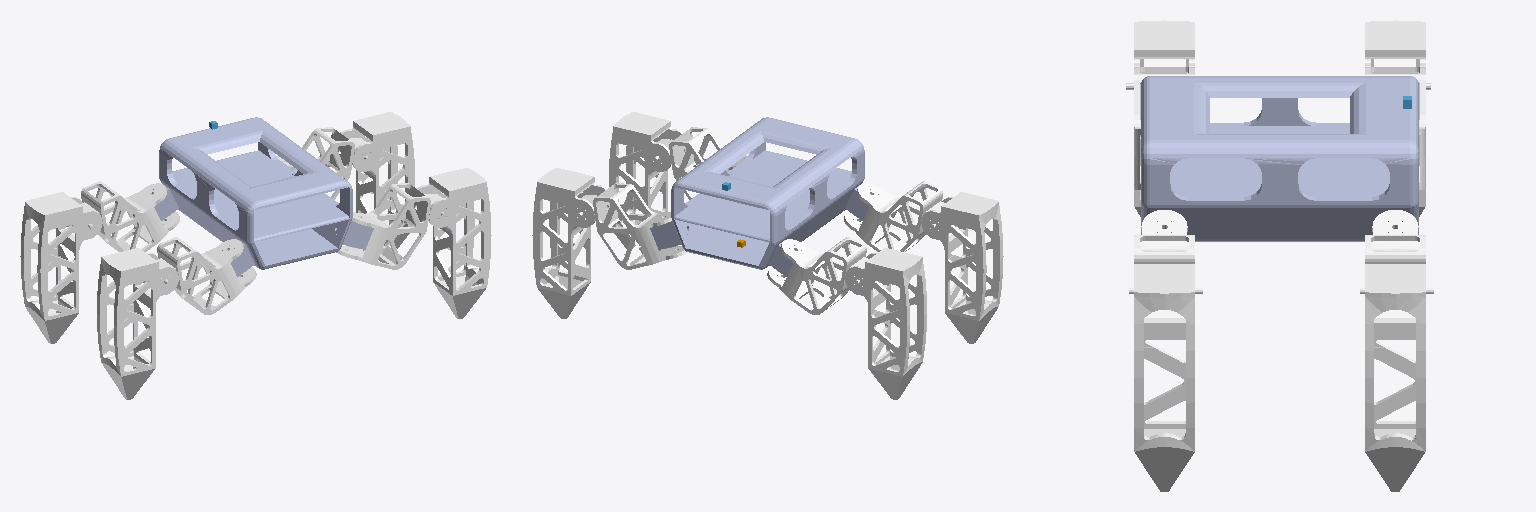
URDF robot description (insect):
<?xml version="1.0" ?>
<!-- =================================================================================== -->
<!-- |    This document was autogenerated by xacro from insect.urdf.xacro              | -->
<!-- |    EDITING THIS FILE BY HAND IS NOT RECOMMENDED                                 | -->
<!-- =================================================================================== -->
<robot name="insect" xmlns:xacro="http://www.ros.org/wiki/xacro">
  <!--#####################################################################################-->
  <!--link name= "world"/>
<joint name="world_joint" type="fixed">
  <origin xyz="0.155823674040498 -0.197142204072068 0.168908258984982 " rpy="0 0 0" />
  <origin xyz="0 0 0" rpy="0 0 0" />
  <parent link="world" />
  <child link="torso_base" />
  <axis xyz="1 0 0" />
</joint-->
  <!--################################################################################################-->
  <!--IMU sensor_link-->
  <link name="imu_link">
    <visual>
      <origin rpy="0 0 0" xyz="0 0 0 "/>
      <geometry>
        <box size="0.01 0.01 0.01"/>
        <!--box size="0.001 0.001 0.001"/-->
      </geometry>
    </visual>
    <collision>
      <origin rpy="0 0 0 " xyz="0 0 0"/>
      <geometry>
        <box size="0.01 0.01 0.01 "/>
        <!--<box size=".001 .001 .001"/-->
      </geometry>
    </collision>
  </link>
  <!--IMU sensor joint-->
  <joint name="imu_joint" type="fixed">
    <axis xyz="0.01 0 0.01"/>
    <!-- 0 1 0 -->
    <origin xyz="0.15 -0.1 0.132"/>
    <parent link="torso_base"/>
    <child link="imu_link"/>
  </joint>
  <!--camera link-->
  <link name="camera_link">
    <collision>
      <origin rpy="0 0 0" xyz="0 0 0"/>
      <geometry>
        <box size="0.01 0.01 0.01"/>
      </geometry>
    </collision>
    <visual>
      <origin rpy="0 0 0" xyz="0 0 0"/>
      <geometry>
        <box size="0.01 0.01 0.01"/>
      </geometry>
      <material name="red"/>
    </visual>
    <inertial>
      <mass value="1e-5"/>
      <origin rpy="0 0 0" xyz="0 0 0"/>
      <inertia ixx="1e-6" ixy="0" ixz="0" iyy="1e-6" iyz="0" izz="1e-6"/>
    </inertial>
  </link>
  <!--Camera sensor joint-->
  <joint name="camera_joint" type="fixed">
    <axis xyz="0 1 0"/>
    <origin rpy="0 0 1.57079632679" xyz="0.155 -0.06 0.25"/>
    <parent link="torso_base"/>
    <child link="camera_link"/>
  </joint>
  <link name="hokuyo_link">
    <collision>
      <origin rpy="0 0 0" xyz="0 0 0"/>
      <geometry>
        <box size="0.1 0.1 0.1"/>
      </geometry>
    </collision>
    <origin rpy="0 0 0" xyz="0 0 0"/>
    <geometry>
      <mesh filename="package://insect_1_description/meshes/hokuyo.dae"/>
    </geometry>
    <visual>
      <origin rpy="0 0 0" xyz="0 0 0"/>
      <geometry>
        <mesh filename="package://insect_1_description/meshes/hokuyo.dae"/>
      </geometry>
    </visual>
    <inertial>
      <mass value="1e-5"/>
      <origin rpy="0 0 0" xyz="0 0 0"/>
      <inertia ixx="1e-6" ixy="0" ixz="0" iyy="1e-6" iyz="0" izz="1e-6"/>
    </inertial>
  </link>
  <joint name="hokuyo_joint" type="fixed">
    <origin rpy="0 0 1.57079632679" xyz="0.155 -0.10 0.28"/>
    <parent link="torso_base"/>
    <child link="hokuyo_link"/>
    <axis xyz="0 0 1"/>
  </joint>
  <!--#######################################################################################################-->
  <link name="torso_base">
    <inertial>
      <origin rpy="0 0 0" xyz="0.155823674040498 -0.197142204072068 0.168908258984982"/>
      <mass value="1.09435213027821"/>
      <inertia ixx="1.0" ixy="0" ixz="0" iyy="1.0" iyz="0" izz="1.0"/>
    </inertial>
    <visual>
      <origin rpy="0 0 0" xyz="0 0 0"/>
      <geometry>
        <mesh filename="package://insect_1_description/meshes/Torso.STL"/>
      </geometry>
      <material name="">
        <color rgba="0.792156862745098 0.819607843137255 0.933333333333333 1"/>
      </material>
    </visual>
    <collision>
      <origin rpy="0 0 0" xyz="0 0 0"/>
      <geometry>
        <mesh filename="package://insect_1_description/meshes/Torso.STL"/>
      </geometry>
    </collision>
  </link>
  <link name="r_f_hip">
    <inertial>
      <mass value="0.0280618431112"/>
      <inertia ixx="1.0" ixy="0.0" ixz="0.0" iyy="1.0" iyz="0.0" izz="1.0"/>
    </inertial>
    <visual>
      <origin rpy="0 0 0" xyz="0 0 0"/>
      <geometry>
        <mesh filename="package://insect_1_description/meshes/Empty_Link1.STL"/>
      </geometry>
      <material name="">
        <color rgba="1 1 1 1"/>
      </material>
    </visual>
    <collision>
      <origin rpy="0 0 0" xyz="0 0 0"/>
      <geometry>
        <mesh filename="package://insect_1_description/meshes/Empty_Link1.STL"/>
      </geometry>
    </collision>
  </link>
  <joint name="r_f_hip_joint" type="revolute">
    <origin rpy="3.14159265358979 -1.14416883366802 1.34706698920462E-16" xyz="0.225625426875454 -0.0726422157817547 0.0399579697018457"/>
    <parent link="torso_base"/>
    <child link="r_f_hip"/>
    <limit effort="6.0" lower="-0.261799387799" upper="0.261799387799" velocity="0.524"/>
    <axis xyz="1 0 0"/>
  </joint>
  <link name="r_f_limb">
    <inertial>
      <mass value="0.0803002951506"/>
      <inertia ixx="1.0" ixy="0.0" ixz="0.0" iyy="1.0" iyz="0.0" izz="1.0"/>
    </inertial>
    <visual>
      <origin rpy="0 0 0" xyz="0 0 0"/>
      <geometry>
        <mesh filename="package://insect_1_description/meshes/Empty_Link11.STL"/>
      </geometry>
      <material name="">
        <color rgba="1 1 1 1"/>
      </material>
    </visual>
    <collision>
      <origin rpy="0 0 0" xyz="0 0 0"/>
      <geometry>
        <mesh filename="package://insect_1_description/meshes/Empty_Link11.STL"/>
      </geometry>
    </collision>
  </link>
  <joint name="r_f_limb_joint" type="revolute">
    <origin rpy="0 0.426627493126876 0" xyz="0.177388243676325 0 0.129225262065832"/>
    <parent link="r_f_hip"/>
    <child link="r_f_limb"/>
    <limit effort="6.0" lower="-0.261799387799" upper="0.261799387799" velocity="0.524"/>
    <axis xyz="0 1 0"/>
  </joint>
  <link name="r_b_hip">
    <inertial>
      <mass value="0.0280618431112"/>
      <inertia ixx="1.0" ixy="0.0" ixz="0.0" iyy="1.0" iyz="0.0" izz="1.0"/>
    </inertial>
    <visual>
      <origin rpy="0 0 0" xyz="0 0 0"/>
      <geometry>
        <mesh filename="package://insect_1_description/meshes/Empty_Link2.STL"/>
      </geometry>
      <material name="">
        <color rgba="1 1 1 1"/>
      </material>
    </visual>
    <collision>
      <origin rpy="0 0 0" xyz="0 0 0"/>
      <geometry>
        <mesh filename="package://insect_1_description/meshes/Empty_Link2.STL"/>
      </geometry>
    </collision>
  </link>
  <joint name="r_b_hip_joint" type="revolute">
    <origin rpy="3.14159265358979 -1.14416883366802 1.34706698920462E-16" xyz="0.225625426875454 -0.321642215781755 0.0399579697018457"/>
    <parent link="torso_base"/>
    <child link="r_b_hip"/>
    <limit effort="6.0" lower="-0.261799387799" upper="0.261799387799" velocity="0.524"/>
    <axis xyz="1 0 0"/>
  </joint>
  <link name="r_b_limb">
    <inertial>
      <mass value="0.0803002951506"/>
      <inertia ixx="1.0" ixy="0.0" ixz="0.0" iyy="1.0" iyz="0.0" izz="1.0"/>
    </inertial>
    <visual>
      <origin rpy="0 0 0" xyz="0 0 0"/>
      <geometry>
        <mesh filename="package://insect_1_description/meshes/Empty_Link22.STL"/>
      </geometry>
      <material name="">
        <color rgba="1 1 1 1"/>
      </material>
    </visual>
    <collision>
      <origin rpy="0 0 0" xyz="0 0 0"/>
      <geometry>
        <mesh filename="package://insect_1_description/meshes/Empty_Link22.STL"/>
      </geometry>
    </collision>
  </link>
  <joint name="r_b_limb_joint" type="revolute">
    <origin rpy="0 0.426627493126876 0" xyz="0.177388243676325 0 0.129225262065832"/>
    <parent link="r_b_hip"/>
    <child link="r_b_limb"/>
    <limit effort="6.0" lower="-0.261799387799" upper="0.261799387799" velocity="0.524"/>
    <axis xyz="0 1 0"/>
  </joint>
  <link name="l_f_hip">
    <inertial>
      <mass value="0.0280618431112"/>
      <inertia ixx="1.0" ixy="0.0" ixz="0.0" iyy="1.0" iyz="0.0" izz="1.0"/>
    </inertial>
    <visual>
      <origin rpy="0 0 0" xyz="0 0 0"/>
      <geometry>
        <mesh filename="package://insect_1_description/meshes/Empty_Link3.STL"/>
      </geometry>
      <material name="">
        <color rgba="1 1 1 1"/>
      </material>
    </visual>
    <collision>
      <origin rpy="0 0 0" xyz="0 0 0"/>
      <geometry>
        <mesh filename="package://insect_1_description/meshes/Empty_Link3.STL"/>
      </geometry>
    </collision>
  </link>
  <joint name="l_f_hip_joint" type="revolute">
    <origin rpy="-3.14159265358979 -1.14416883366802 3.14159265358979" xyz="0.0489501433341401 -0.0726422157817548 0.121498471038666"/>
    <parent link="torso_base"/>
    <child link="l_f_hip"/>
    <limit effort="6.0" lower="-0.261799387799" upper="0.261799387799" velocity="0.524"/>
    <axis xyz="1 0 0"/>
  </joint>
  <link name="l_f_limb">
    <inertial>
      <mass value="0.0803002951507"/>
      <inertia ixx="1.0" ixy="0.0" ixz="0.0" iyy="1.0" iyz="0.0" izz="1.0"/>
    </inertial>
    <visual>
      <origin rpy="0 0 0" xyz="0 0 0"/>
      <geometry>
        <mesh filename="package://insect_1_description/meshes/Empty_Link33.STL"/>
      </geometry>
      <material name="">
        <color rgba="1 1 1 1"/>
      </material>
    </visual>
    <collision>
      <origin rpy="0 0 0" xyz="0 0 0"/>
      <geometry>
        <mesh filename="package://insect_1_description/meshes/Empty_Link33.STL"/>
      </geometry>
    </collision>
  </link>
  <joint name="l_f_limb_joint" type="revolute">
    <origin rpy="0 0.426627493126877 0" xyz="0.0878154069775051 0 0.129225262065832"/>
    <parent link="l_f_hip"/>
    <child link="l_f_limb"/>
    <limit effort="6.0" lower="-0.261799387799" upper="0.261799387799" velocity="0.524"/>
    <axis xyz="0 -1 0"/>
  </joint>
  <link name="l_b_hip">
    <inertial>
      <mass value="0.0280618431112"/>
      <inertia ixx="1.0" ixy="0.0" ixz="0.0" iyy="1.0" iyz="0.0" izz="1.0"/>
    </inertial>
    <inertial>
      <origin rpy="0 0 0" xyz="0.0469971216311395 -0.000689624605971217 0.0756385827767793"/>
      <mass value="0.0280618431112177"/>
      <inertia ixx="0" ixy="0" ixz="0" iyy="0" iyz="0" izz="0"/>
    </inertial>
    <visual>
      <origin rpy="0 0 0" xyz="0 0 0"/>
      <geometry>
        <mesh filename="package://insect_1_description/meshes/Empty_Link4.STL"/>
      </geometry>
      <material name="">
        <color rgba="1 1 1 1"/>
      </material>
    </visual>
    <collision>
      <origin rpy="0 0 0" xyz="0 0 0"/>
      <geometry>
        <mesh filename="package://insect_1_description/meshes/Empty_Link4.STL"/>
      </geometry>
    </collision>
  </link>
  <joint name="l_b_hip_joint" type="revolute">
    <origin rpy="-3.14159265358979 -1.14416883366802 3.14159265358979" xyz="0.0489501433341401 -0.321642215781755 0.121498471038666"/>
    <parent link="torso_base"/>
    <child link="l_b_hip"/>
    <limit effort="6.0" lower="-0.261799387799" upper="0.261799387799" velocity="0.524"/>
    <axis xyz="1 0 0"/>
  </joint>
  <link name="l_b_limb">
    <inertial>
      <mass value="0.0803002951507"/>
      <inertia ixx="1.0" ixy="0.0" ixz="0.0" iyy="1.0" iyz="0.0" izz="1.0"/>
    </inertial>
    <visual>
      <origin rpy="0 0 0" xyz="0 0 0"/>
      <geometry>
        <mesh filename="package://insect_1_description/meshes/Empty_Link44.STL"/>
      </geometry>
      <material name="">
        <color rgba="1 1 1 1"/>
      </material>
    </visual>
    <collision>
      <origin rpy="0 0 0" xyz="0 0 0"/>
      <geometry>
        <mesh filename="package://insect_1_description/meshes/Empty_Link44.STL"/>
      </geometry>
    </collision>
  </link>
  <joint name="l_b_limb_joint" type="revolute">
    <origin rpy="0 0.426627493126876 0" xyz="0.087815406977505 0 0.129225262065832"/>
    <parent link="l_b_hip"/>
    <child link="l_b_limb"/>
    <limit effort="6.0" lower="-0.261799387799" upper="0.261799387799" velocity="0.524"/>
    <axis xyz="0 -1 0"/>
  </joint>
  <!--######################################################################################################################################-->
  <transmission name="l_f_hip_transmission">
    <type>transmission_interface/SimpleTransmission</type>
    <joint name="l_f_hip_joint">
      <hardwareInterface>EffortJointInterface</hardwareInterface>
    </joint>
    <actuator name="l_f_hip_motor">
      <hardwareInterface>EffortJointInterface</hardwareInterface>
      <mechanicalReduction>1</mechanicalReduction>
    </actuator>
  </transmission>
  <transmission name="l_b_hip_transmission">
    <type>transmission_interface/SimpleTransmission</type>
    <joint name="l_b_hip_joint">
      <hardwareInterface>EffortJointInterface</hardwareInterface>
    </joint>
    <actuator name="l_b_hip_motor">
      <hardwareInterface>EffortJointInterface</hardwareInterface>
      <mechanicalReduction>1</mechanicalReduction>
    </actuator>
  </transmission>
  <transmission name="r_f_hip_transmission">
    <type>transmission_interface/SimpleTransmission</type>
    <joint name="r_f_hip_joint">
      <hardwareInterface>EffortJointInterface</hardwareInterface>
    </joint>
    <actuator name="r_f_hip_motor">
      <hardwareInterface>EffortJointInterface</hardwareInterface>
      <mechanicalReduction>1</mechanicalReduction>
    </actuator>
  </transmission>
  <transmission name="r_b_hip_transmission">
    <type>transmission_interface/SimpleTransmission</type>
    <joint name="r_b_hip_joint">
      <hardwareInterface>EffortJointInterface</hardwareInterface>
    </joint>
    <actuator name="r_b_hip_motor">
      <hardwareInterface>EffortJointInterface</hardwareInterface>
      <mechanicalReduction>1</mechanicalReduction>
    </actuator>
  </transmission>
  <transmission name="l_f_limb_transmission">
    <type>transmission_interface/SimpleTransmission</type>
    <joint name="l_f_limb_joint">
      <hardwareInterface>EffortJointInterface</hardwareInterface>
    </joint>
    <actuator name="l_f_limb_motor">
      <hardwareInterface>EffortJointInterface</hardwareInterface>
      <mechanicalReduction>1</mechanicalReduction>
    </actuator>
  </transmission>
  <transmission name="l_b_limb_transmission">
    <type>transmission_interface/SimpleTransmission</type>
    <joint name="l_b_limb_joint">
      <hardwareInterface>EffortJointInterface</hardwareInterface>
    </joint>
    <actuator name="l_b_limb_motor">
      <hardwareInterface>EffortJointInterface</hardwareInterface>
      <mechanicalReduction>1</mechanicalReduction>
    </actuator>
  </transmission>
  <transmission name="r_f_limb_transmission">
    <type>transmission_interface/SimpleTransmission</type>
    <joint name="r_f_limb_joint">
      <hardwareInterface>EffortJointInterface</hardwareInterface>
    </joint>
    <actuator name="r_f_limb_motor">
      <hardwareInterface>EffortJointInterface</hardwareInterface>
      <mechanicalReduction>1</mechanicalReduction>
    </actuator>
  </transmission>
  <transmission name="r_b_limb_transmission">
    <type>transmission_interface/SimpleTransmission</type>
    <joint name="r_b_limb_joint">
      <hardwareInterface>EffortJointInterface</hardwareInterface>
    </joint>
    <actuator name="r_b_limb_motor">
      <hardwareInterface>EffortJointInterface</hardwareInterface>
      <mechanicalReduction>1</mechanicalReduction>
    </actuator>
  </transmission>
  <!--###################################################################################-->
  <!--####################################################################################-->
  <!--contact_sensor_torso_base-->
  <gazebo reference="torso_base">
    <sensor name="contact_sensor" type="contact">
      <always_on>true</always_on>
      <update_rate>15.0</update_rate>
      <contact>
        <collision>collision</collision>
      </contact>
      <plugin filename="libgazebo_ros_bumper.so" name="gazebo_ros_bumper_controller">
        <bumperTopicName>torso_contact_info</bumperTopicName>
        <frameName>torso_base</frameName>
      </plugin>
    </sensor>
  </gazebo>
  <!--########################################################################################-->
  <gazebo>
    <plugin filename="libgazebo_ros_control.so" name="gazebo_ros_control">
      <robotNamespace>/insect</robotNamespace>
    </plugin>
  </gazebo>
  <gazebo>
    <plugin filename="libgazebo_ros_f3d.so" name="f3d_controller">
      <robotNamespace>/insect</robotNamespace>
      <alwaysOn>true</alwaysOn>
      <updateRate>50</updateRate>
      <bodyName>l_f_limb</bodyName>
      <topicName>l_f_limb_ground_feedback</topicName>
      <frameName>l_f_limb</frameName>
    </plugin>
  </gazebo>
  <gazebo>
    <plugin filename="libgazebo_ros_f3d.so" name="f3d_controller">
      <robotNamespace>/insect</robotNamespace>
      <alwaysOn>true</alwaysOn>
      <updateRate>50</updateRate>
      <bodyName>r_f_limb</bodyName>
      <topicName>r_f_limb_ground_feedback</topicName>
      <frameName>r_f_limb</frameName>
    </plugin>
  </gazebo>
  <gazebo>
    <plugin filename="libgazebo_ros_f3d.so" name="f3d_controller">
      <robotNamespace>/insect</robotNamespace>
      <alwaysOn>true</alwaysOn>
      <updateRate>50</updateRate>
      <bodyName>l_b_limb</bodyName>
      <topicName>l_b_limb_ground_feedback</topicName>
      <frameName>l_b_limb</frameName>
    </plugin>
  </gazebo>
  <gazebo>
    <plugin filename="libgazebo_ros_f3d.so" name="f3d_controller">
      <robotNamespace>/insect</robotNamespace>
      <alwaysOn>true</alwaysOn>
      <updateRate>50</updateRate>
      <bodyName>r_b_limb</bodyName>
      <topicName>r_b_limb_ground_feedback</topicName>
      <frameName>r_b_limb</frameName>
    </plugin>
  </gazebo>
  <!--################################################################################################-->
  <gazebo>
    <plugin filename="libgazebo_ros_imu.so" name="gazebo_ros_imu_controller">
      <robotNamespace>/insect</robotNamespace>
      <topicName>imu/data</topicName>
      <serviceName>imu/service</serviceName>
      <bodyName>torso_base</bodyName>
      <gaussianNoise>0</gaussianNoise>
      <rpyOffsets>0 0 0</rpyOffsets>
      <updateRate>10.0</updateRate>
      <alwaysOn>true</alwaysOn>
      <gaussianNoise>0</gaussianNoise>
    </plugin>
  </gazebo>
  <!--###################################################################################################-->
  <gazebo reference="hokuyo_link">
    <sensor name="head_hokuyo_sensor" type="ray">
      <pose>0 0 0 0 0 0</pose>
      <visualize>true</visualize>
      <update_rate>60</update_rate>
      <ray>
        <scan>
          <horizontal>
            <samples>720</samples>
            <resolution>1</resolution>
            <min_angle>-0.785</min_angle>
            <max_angle>0.785</max_angle>
          </horizontal>
        </scan>
        <range>
          <min>0.10</min>
          <max>5.0</max>
          <resolution>0.01</resolution>
        </range>
        <noise>
          <type>gaussian</type>
          <!-- Noise parameters based on published spec for Hokuyo laser
                    achieving "+-30mm" accuracy at range < 10m.  A mean of 0.0m and
                    stddev of 0.01m will put 99.7% of samples within 0.03m of the true
                    reading. -->
          <mean>0.0</mean>
          <stddev>0.01</stddev>
        </noise>
      </ray>
      <plugin filename="libgazebo_ros_laser.so" name="laser">
        <topicName>/scan</topicName>
        <frameName>hokuyo_link</frameName>
      </plugin>
    </sensor>
  </gazebo>
  <!-- camera -->
  <!-- camera -->
  <gazebo reference="camera_link">
    <sensor name="camera1" type="camera">
      <update_rate>30.0</update_rate>
      <camera name="head">
        <horizontal_fov>1.3962634</horizontal_fov>
        <image>
          <width>800</width>
          <height>800</height>
          <format>R8G8B8</format>
        </image>
        <clip>
          <near>0.02</near>
          <far>300</far>
        </clip>
        <noise>
          <type>gaussian</type>
          <!-- Noise is sampled independently per pixel on each frame.
               That pixel's noise value is added to each of its color
               channels, which at that point lie in the range [0,1]. -->
          <mean>0.0</mean>
          <stddev>0.007</stddev>
        </noise>
      </camera>
      <plugin filename="libgazebo_ros_camera.so" name="camera_controller">
        <alwaysOn>true</alwaysOn>
        <updateRate>0.0</updateRate>
        <cameraName>insect1/camera1</cameraName>
        <imageTopicName>image_raw</imageTopicName>
        <cameraInfoTopicName>camera_info</cameraInfoTopicName>
        <frameName>camera_link</frameName>
        <hackBaseline>0.07</hackBaseline>
        <distortionK1>0.0</distortionK1>
        <distortionK2>0.0</distortionK2>
        <distortionK3>0.0</distortionK3>
        <distortionT1>0.0</distortionT1>
        <distortionT2>0.0</distortionT2>
      </plugin>
    </sensor>
  </gazebo>
  <!--############################################################################################################-->
</robot>

--- What the picture shows (computed from the rendered views, not written in the file) ---
The picture shows the robot from 3 angles, left to right: view 1: azimuth 30°, elevation 25°; view 2: azimuth 150°, elevation 25°; view 3: azimuth 270°, elevation 25°; orthographic projection.
Robot: insect — 12 links, 11 joints (8 revolute, 3 fixed); root link torso_base; default pose: every joint at zero.
Visible links, largest first — view 1: torso_base, l_b_limb, l_f_limb, r_b_limb, r_f_limb, l_b_hip, r_b_hip, l_f_hip, r_f_hip; view 2: torso_base, l_f_limb, l_b_limb, r_f_limb, r_b_limb, l_f_hip, r_f_hip, l_b_hip, r_b_hip; view 3: torso_base, r_f_limb, r_b_limb, r_f_hip, r_b_hip, l_f_limb, l_b_limb, l_b_hip, l_f_hip.
Link boxes in pixels (<box>): torso_base: <box>154,117,373,276</box>; l_b_limb: <box>97,248,178,399</box>; l_f_limb: <box>20,192,102,343</box>; r_b_limb: <box>416,168,491,318</box>; r_f_limb: <box>340,112,414,248</box>; l_b_hip: <box>143,237,256,314</box>; r_b_hip: <box>336,183,445,269</box>; l_f_hip: <box>66,181,179,251</box>; r_f_hip: <box>276,127,369,199</box>; torso_base: <box>650,117,869,276</box>; l_f_limb: <box>845,248,926,399</box>; l_b_limb: <box>921,192,1003,343</box>; r_f_limb: <box>532,168,607,318</box>; r_b_limb: <box>609,112,683,248</box>; l_f_hip: <box>767,237,880,314</box>; r_f_hip: <box>577,183,687,269</box>; l_b_hip: <box>844,181,957,251</box>; r_b_hip: <box>653,127,747,199</box>; torso_base: <box>1141,76,1418,241</box>; r_f_limb: <box>1365,264,1425,491</box>; r_b_limb: <box>1134,264,1194,491</box>; r_f_hip: <box>1360,210,1433,317</box>; r_b_hip: <box>1129,210,1202,317</box>; l_f_limb: <box>1365,20,1425,216</box>; l_b_limb: <box>1134,20,1194,216</box>; l_b_hip: <box>1126,67,1194,189</box>; l_f_hip: <box>1365,67,1430,189</box>.
Bounding box of the posed robot: 0.7067 × 0.332 × 0.3196 m (x, y, z).
9 mesh visuals loaded from 10 distinct referenced files (9 binary STL); not drawn: 1 (reference not matched to a file when rendering).
